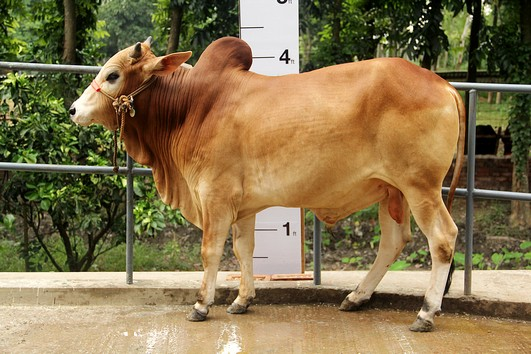cow: (65, 29, 476, 341)
